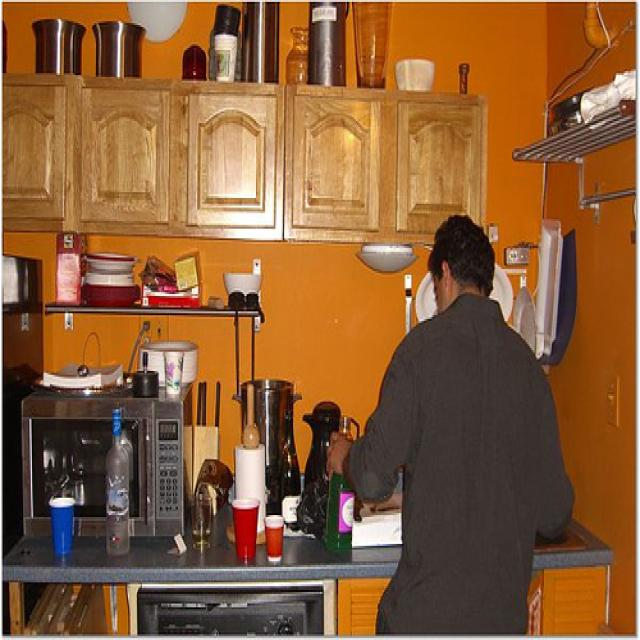bottle: (326, 413, 356, 561), (108, 407, 131, 559), (280, 411, 302, 530)
person: (327, 216, 577, 639)
